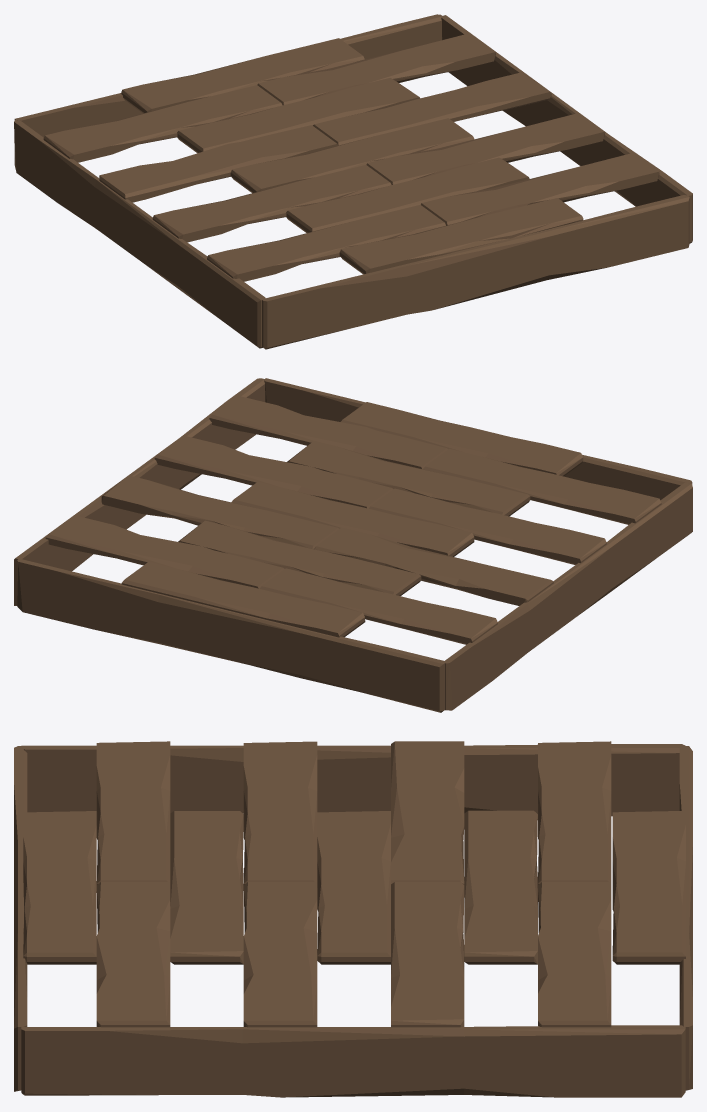
Rendered from PK_Floor_Plank_B.fbx.
The picture shows the model from 3 angles, top to bottom: view 1: azimuth 30°, elevation 25°; view 2: azimuth 150°, elevation 25°; view 3: azimuth 270°, elevation 25°; orthographic projection. The views are drawn at different scales.
Visible parts, largest first — view 1: PK_Floor_Plank_B; view 2: PK_Floor_Plank_B; view 3: PK_Floor_Plank_B.
Boxes of the visible parts, x1,y1,x2,y2 form: PK_Floor_Plank_B: (14, 14, 692, 349); PK_Floor_Plank_B: (14, 378, 692, 712); PK_Floor_Plank_B: (14, 741, 692, 1097).
Size of the model in its own units: 204 by 24.01 by 204.
